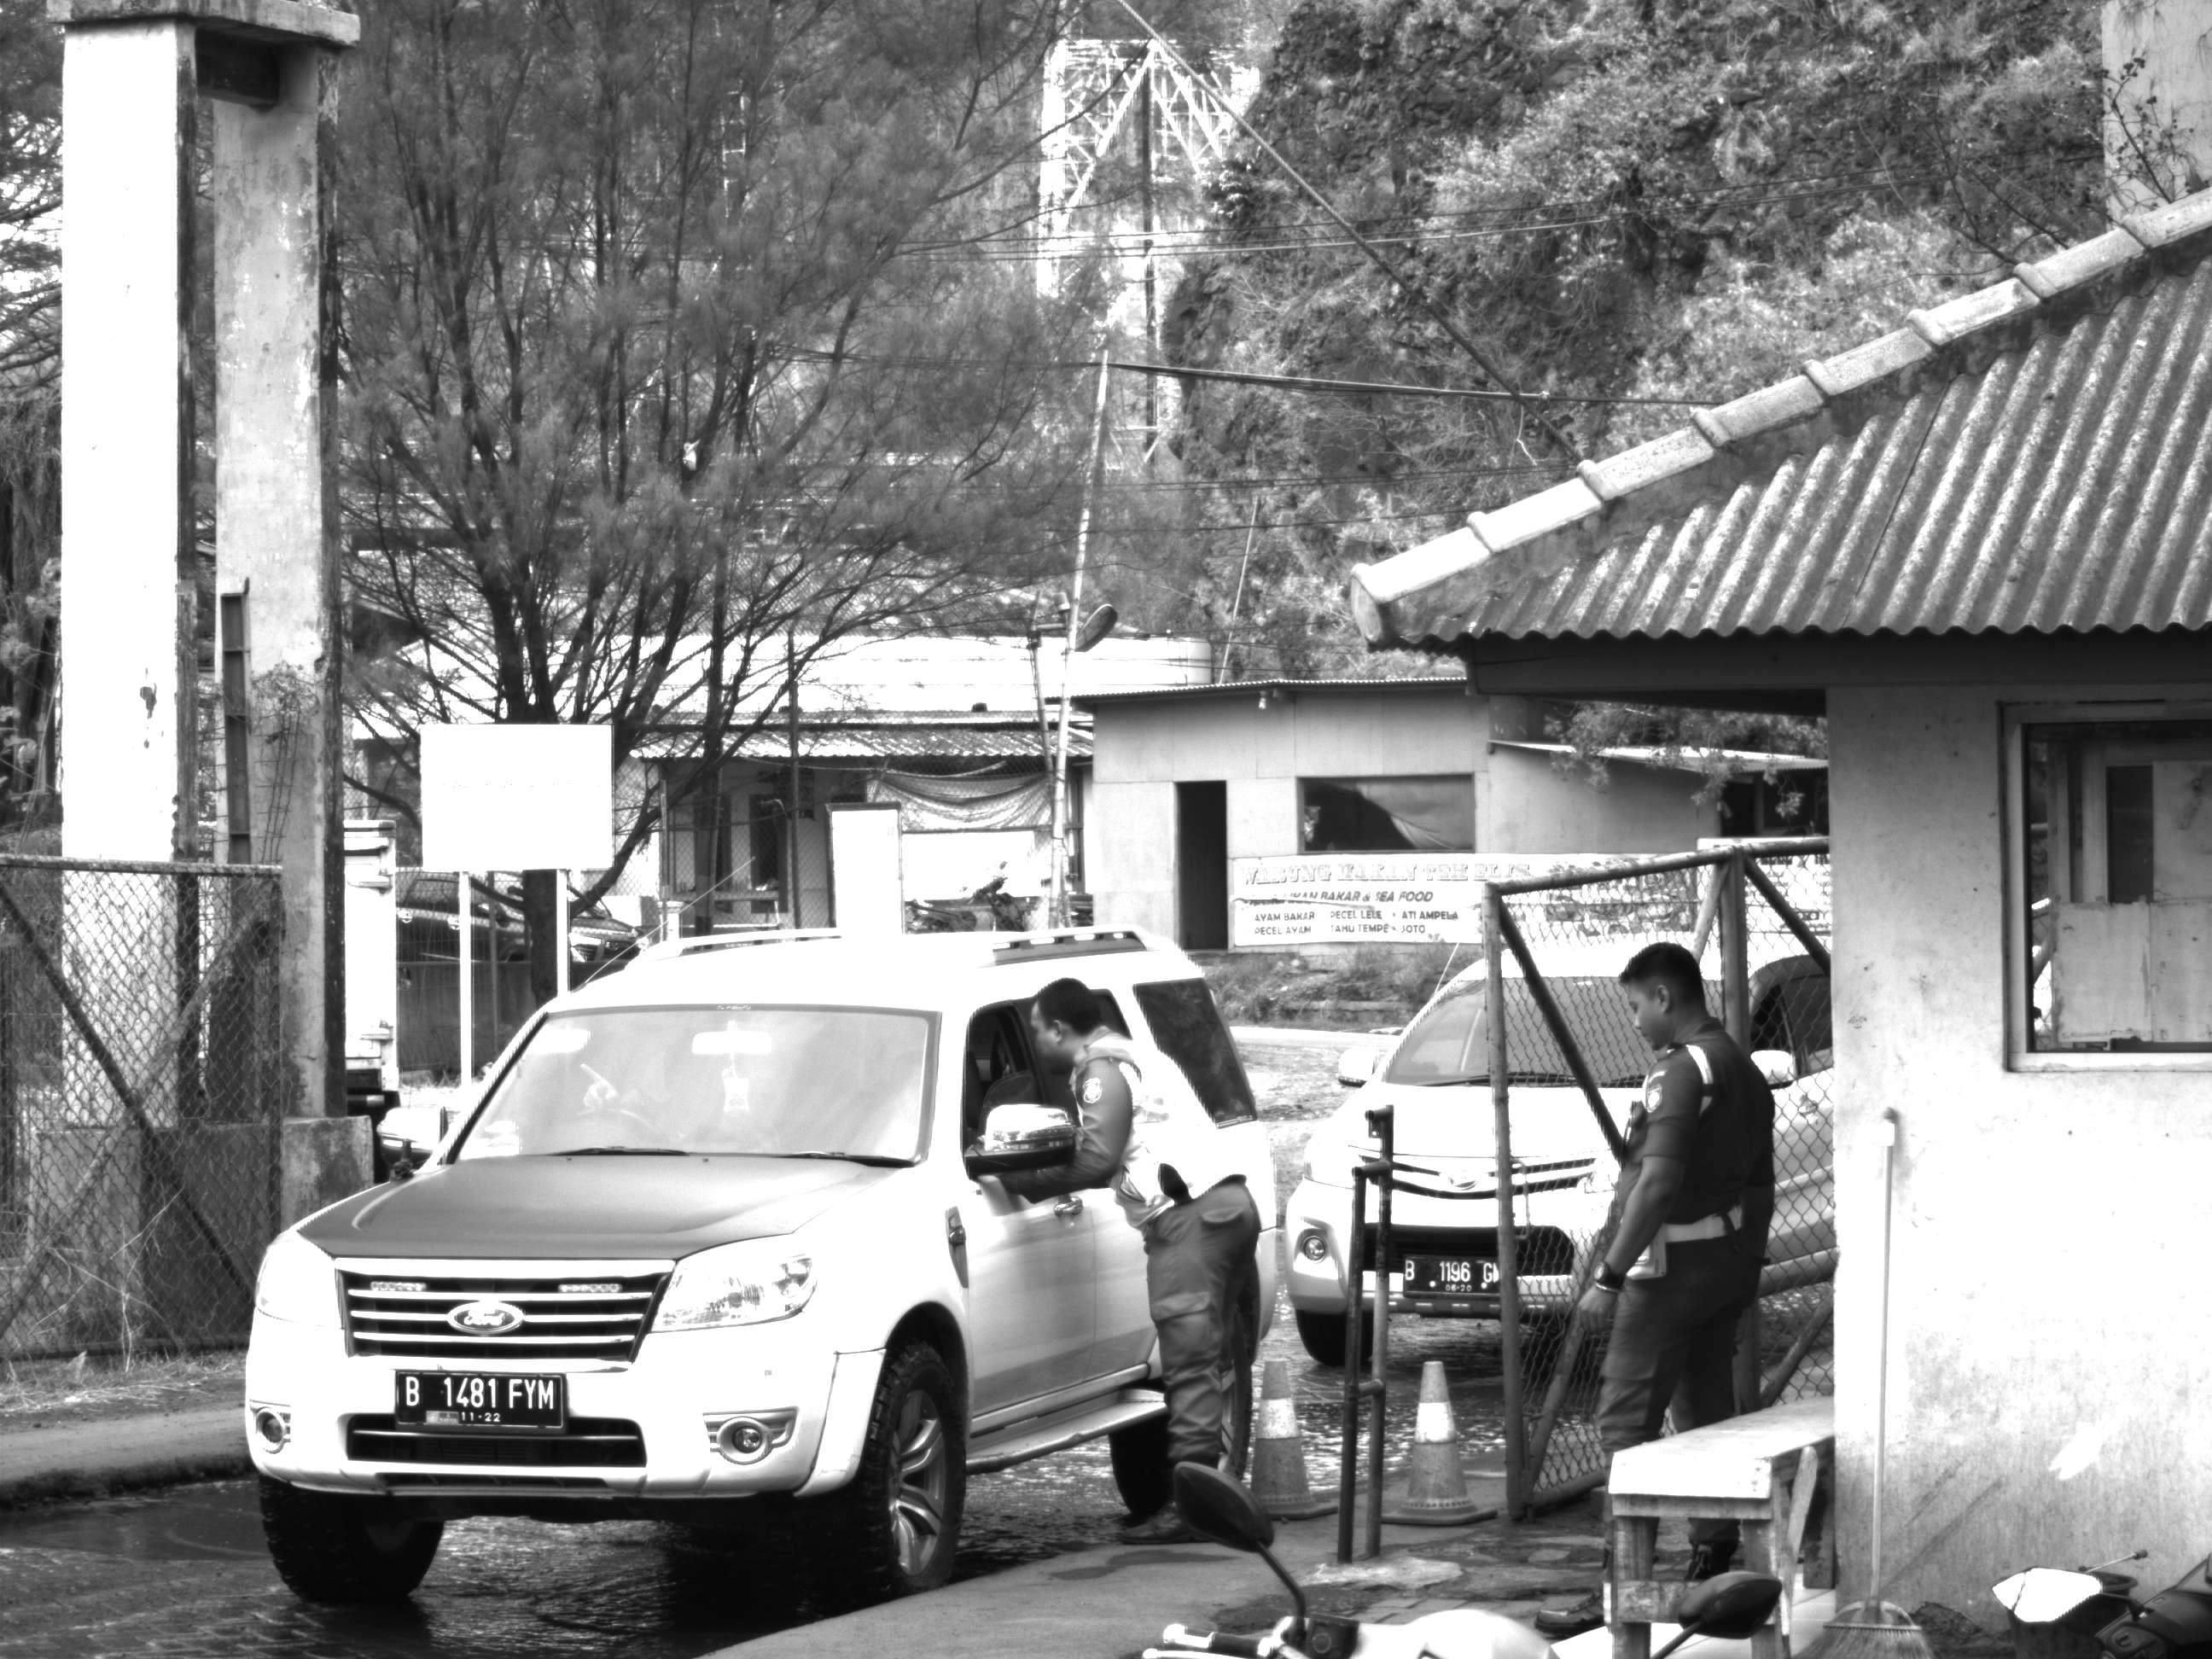day_small_front: (241, 934, 991, 1598)
plate: (395, 1367, 571, 1429), (1405, 1252, 1498, 1300)
